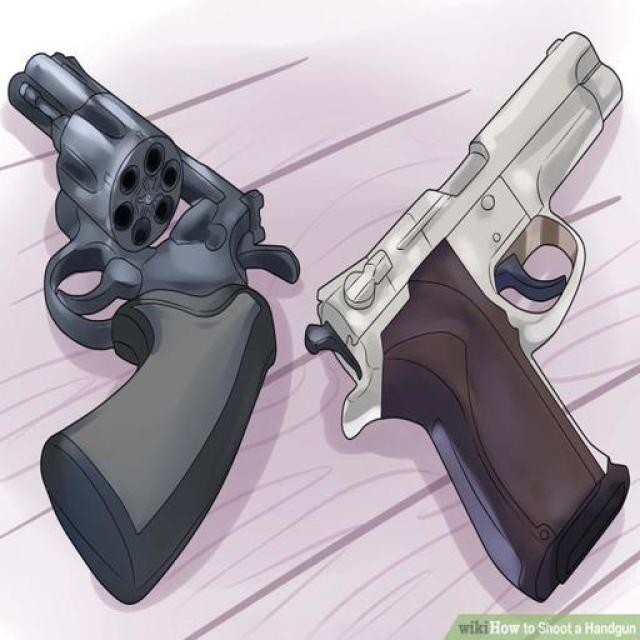pistol: (305, 34, 632, 609), (2, 52, 311, 616)
